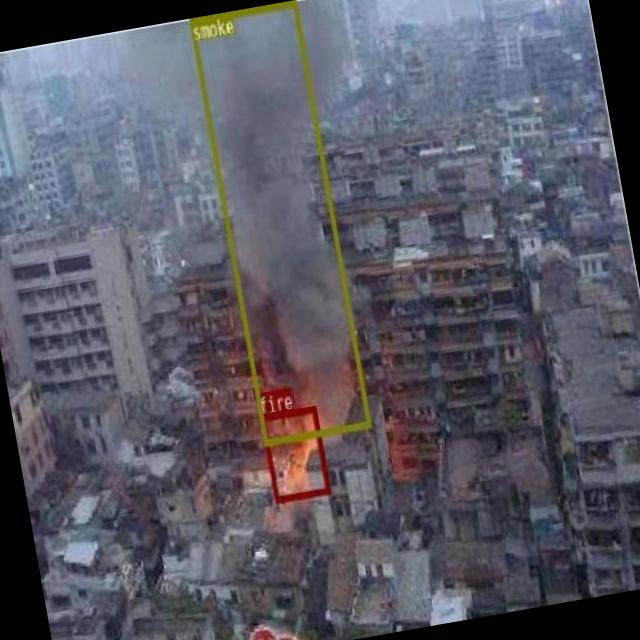fire: (260, 404, 330, 500)
smoke: (188, 0, 371, 445)
